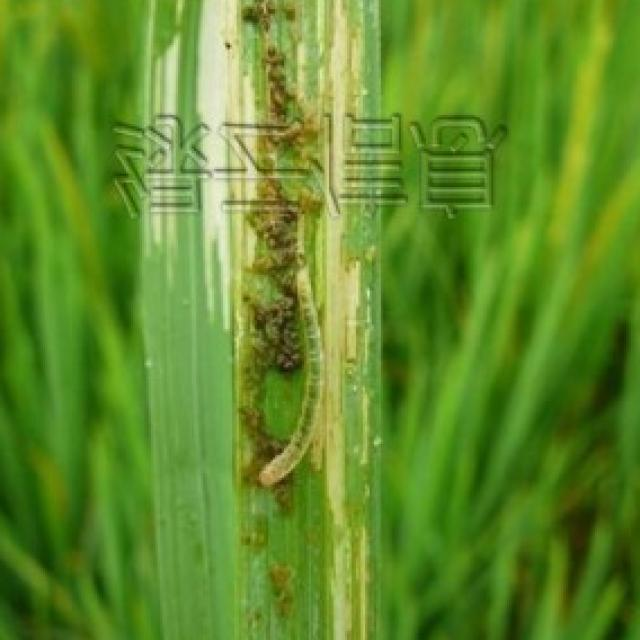rice leaf roller: (234, 0, 322, 557), (264, 563, 291, 617)
